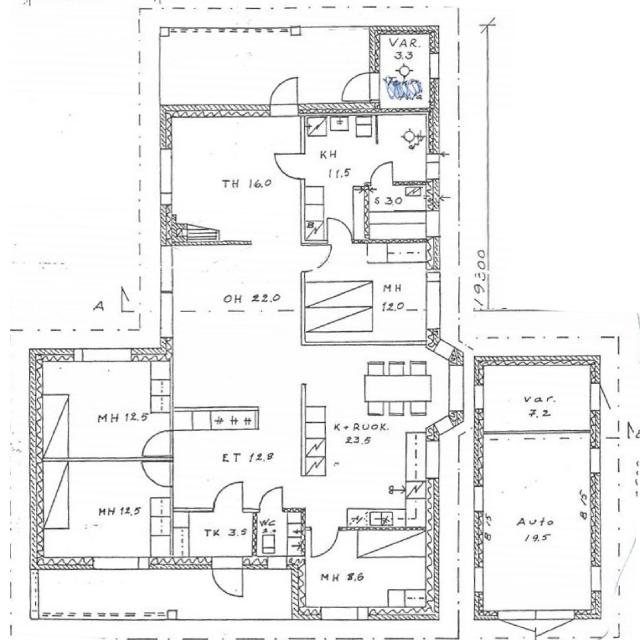door: (212, 557, 243, 599), (340, 72, 380, 100), (270, 77, 298, 116), (590, 383, 628, 410), (214, 481, 242, 513), (301, 246, 332, 272), (311, 527, 338, 556), (275, 154, 305, 179), (144, 462, 172, 487), (143, 430, 172, 454), (327, 216, 352, 243), (259, 486, 283, 512), (370, 160, 393, 185)
